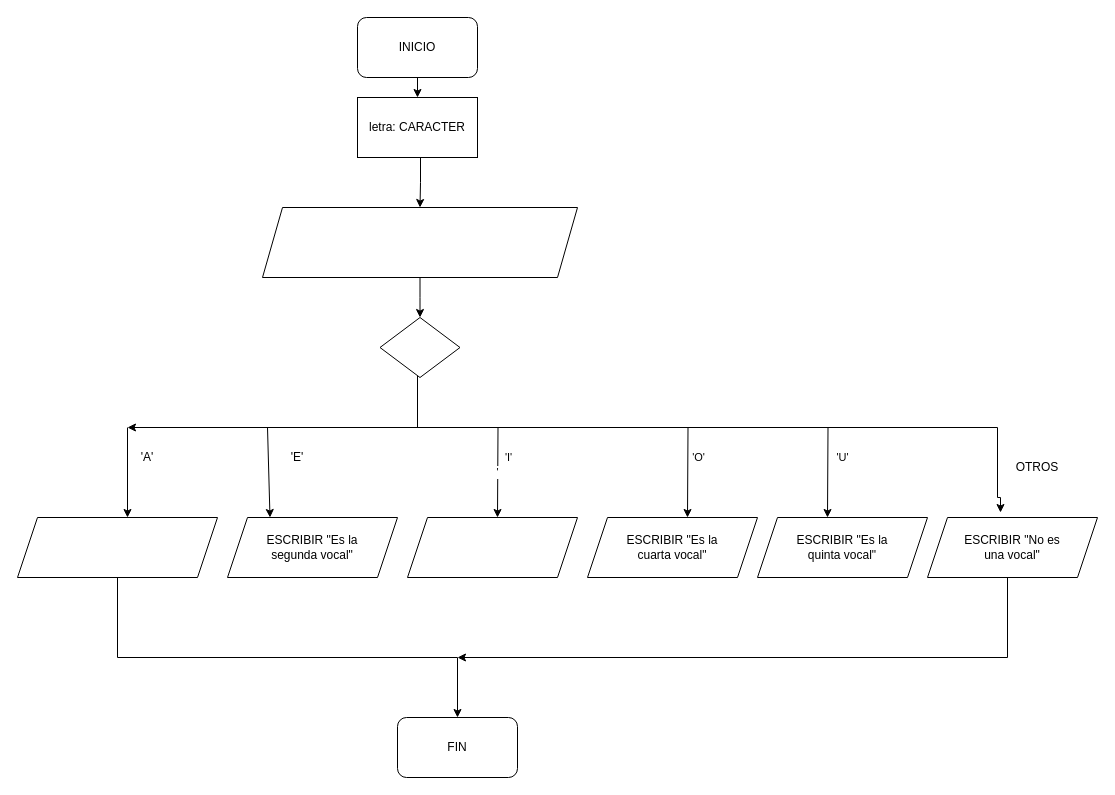
Image size: 1115x795. Some labels were removed from this diagram. The shapes that lost their labels are listed below. From the top down, each one's centre as x and y in pixels, then its label:
(420,242): ESCRIBIR "Introduce una letra " LEER letra
(419,347): letra=
(117,547): ESCRIBIR "Es la primera vocal"
(492,547): ESCRIBIR "Es la tercera vocal"
